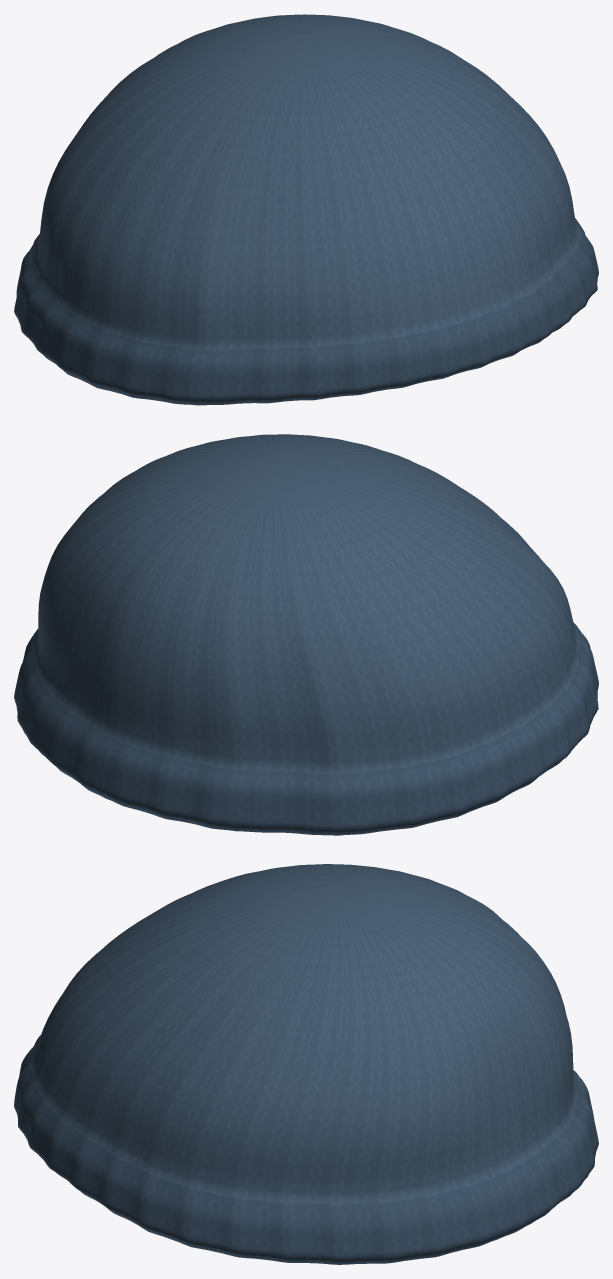
File: beanie-masculine-locs.glb
3 renders of one model, top to bottom at view 1: azimuth 30°, elevation 25°; view 2: azimuth 150°, elevation 25°; view 3: azimuth 270°, elevation 25°, orthographic. The views are drawn at different scales.
Visible parts, largest first — view 1: Beanie / fitted knit; view 2: Beanie / fitted knit; view 3: Beanie / fitted knit.
Boxes of the visible parts, x1,y1,x2,y2 form: Beanie / fitted knit: (14,14,598,405); Beanie / fitted knit: (14,434,598,835); Beanie / fitted knit: (14,864,598,1264).
Bounding box in the file's own units: 0.8314 × 0.4059 × 0.8112.
2 materials, 2 textured.
